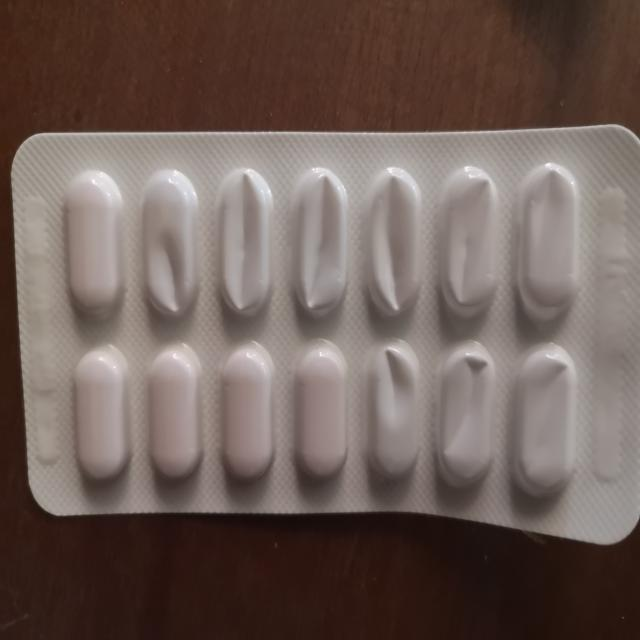Empty: (284, 161, 356, 325), (360, 159, 428, 330), (516, 155, 583, 328), (512, 341, 582, 506), (212, 158, 279, 326), (436, 158, 502, 327), (430, 341, 500, 497), (133, 164, 202, 322), (361, 338, 424, 492)
Pill: (56, 156, 128, 317), (291, 334, 356, 492), (70, 343, 136, 491), (142, 339, 206, 483), (220, 342, 277, 491)
